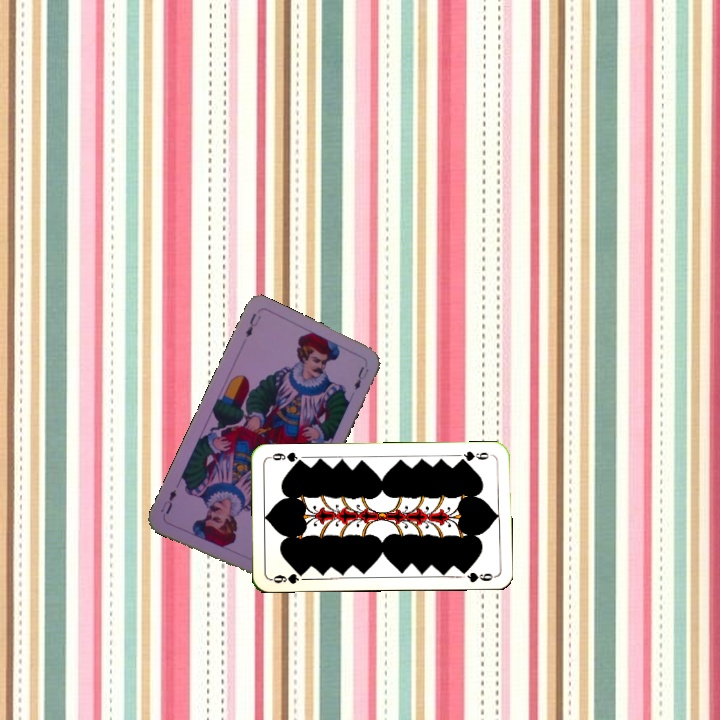EU: (241, 309, 263, 340)
G9: (267, 568, 308, 586), (454, 447, 495, 464)
